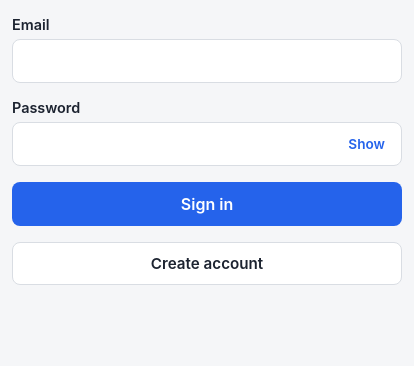
Test case: SignInForm › shows a retryable message and retains the email on a network failure
Type "ana@example.com" into the field labelled "Email" at (207, 61), box top-left (12, 39), bottom-right (402, 83)
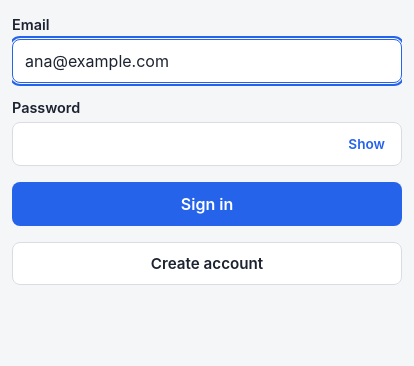
Type "correct-horse-battery-staple" into the password field labelled "Password" at (207, 144), box top-left (12, 122), bottom-right (402, 166)
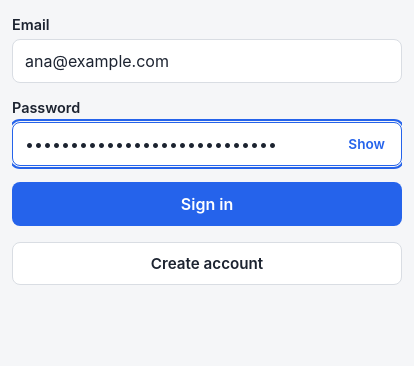
Click the button "Sign in" at (207, 204), box top-left (12, 182), bottom-right (402, 226)
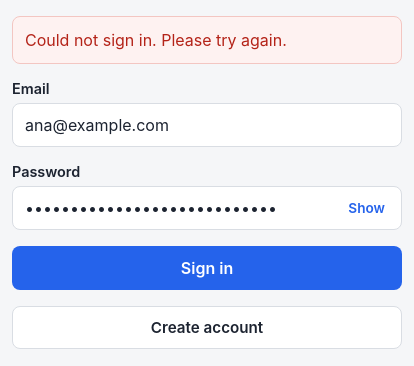
Expected: the text "Could not sign in. Please try again." is shown, top-left (12, 16), bottom-right (402, 64)
